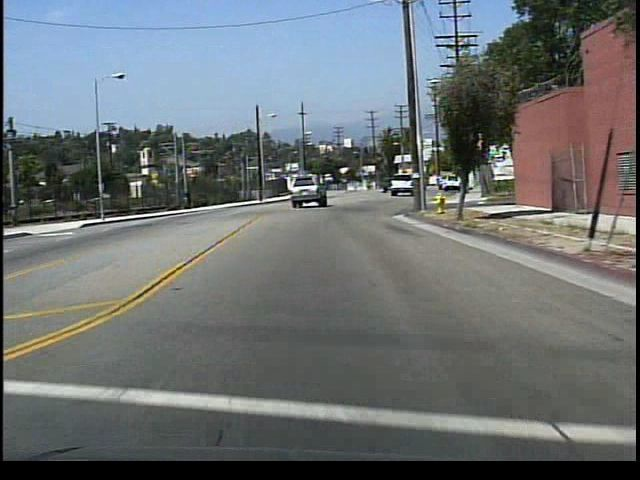person: (184, 188, 193, 211)
